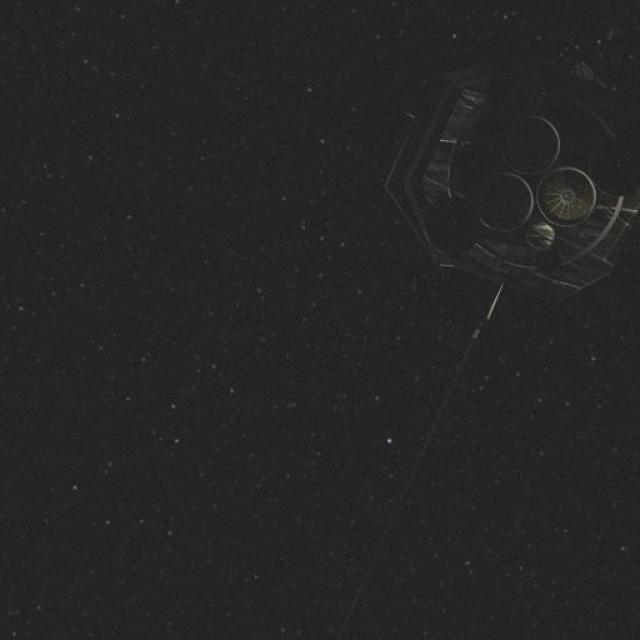xmm_newton: (280, 30, 640, 378)
